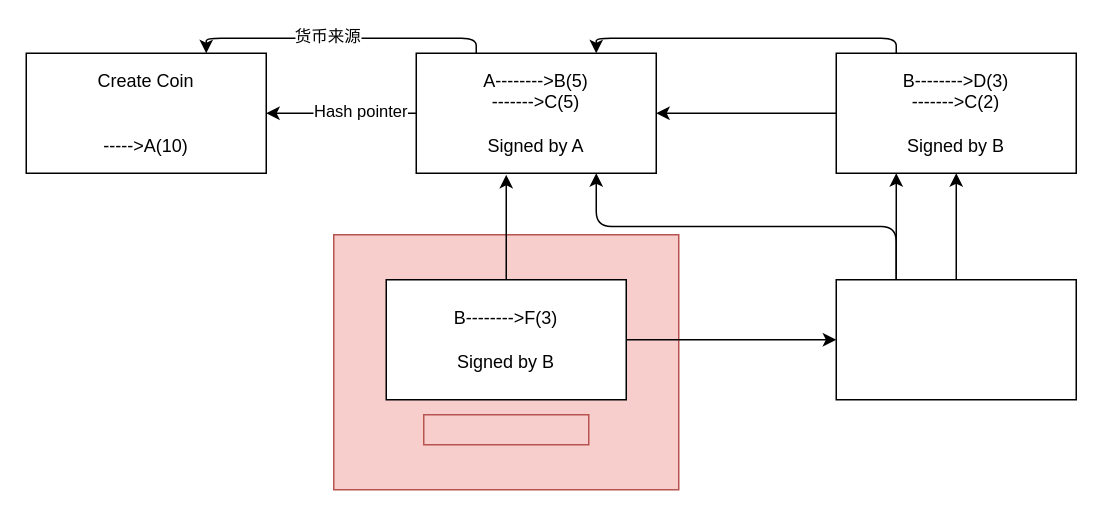
Image size: 1103x516. Some labels were removed from this diagram. Each missing label, with the centre of its shape:
"C---------->E（7) Signed by C" goes at [955,339].
"Double Spending" goes at [505,429].
